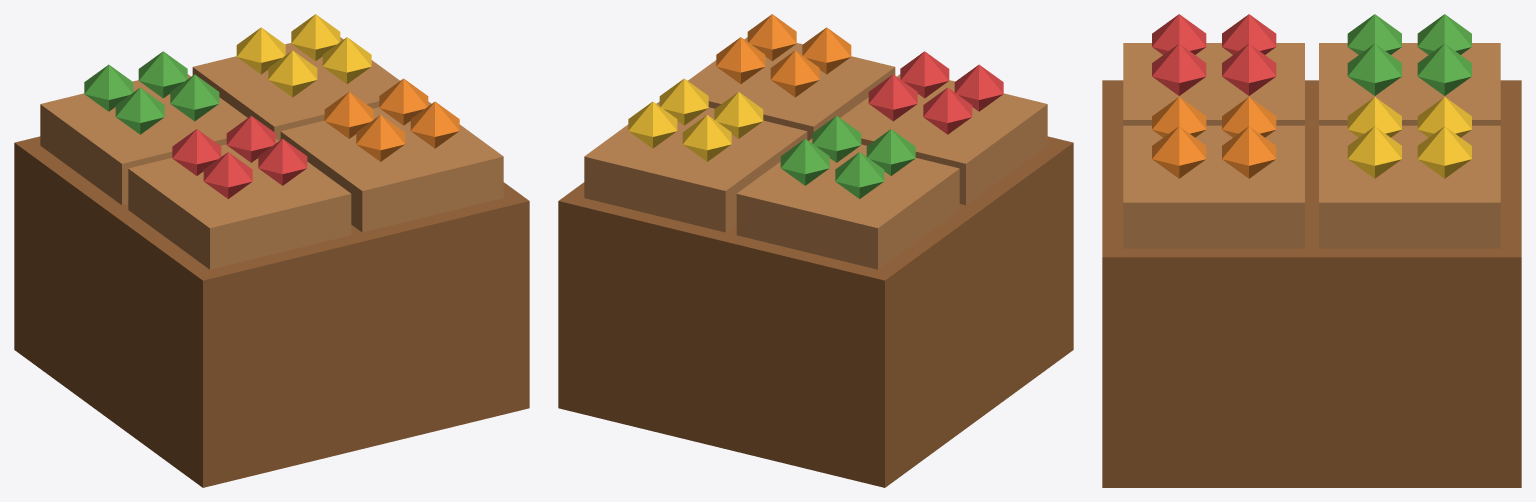
File: display-fruit.glb
3 renders of one model, left to right at view 1: azimuth 30°, elevation 25°; view 2: azimuth 150°, elevation 25°; view 3: azimuth 270°, elevation 25°, orthographic. The views are drawn at different scales.
Parts seen in each view (by area): view 1: display-fruit; view 2: display-fruit; view 3: display-fruit.
Boxes of the visible parts, bbox=[...] form: display-fruit: bbox=[14, 14, 529, 487]; display-fruit: bbox=[558, 14, 1073, 487]; display-fruit: bbox=[1102, 14, 1521, 487].
Size of the model in its own units: 0.6 by 0.52 by 0.6.
Materials: 1 (1 with a texture image).
